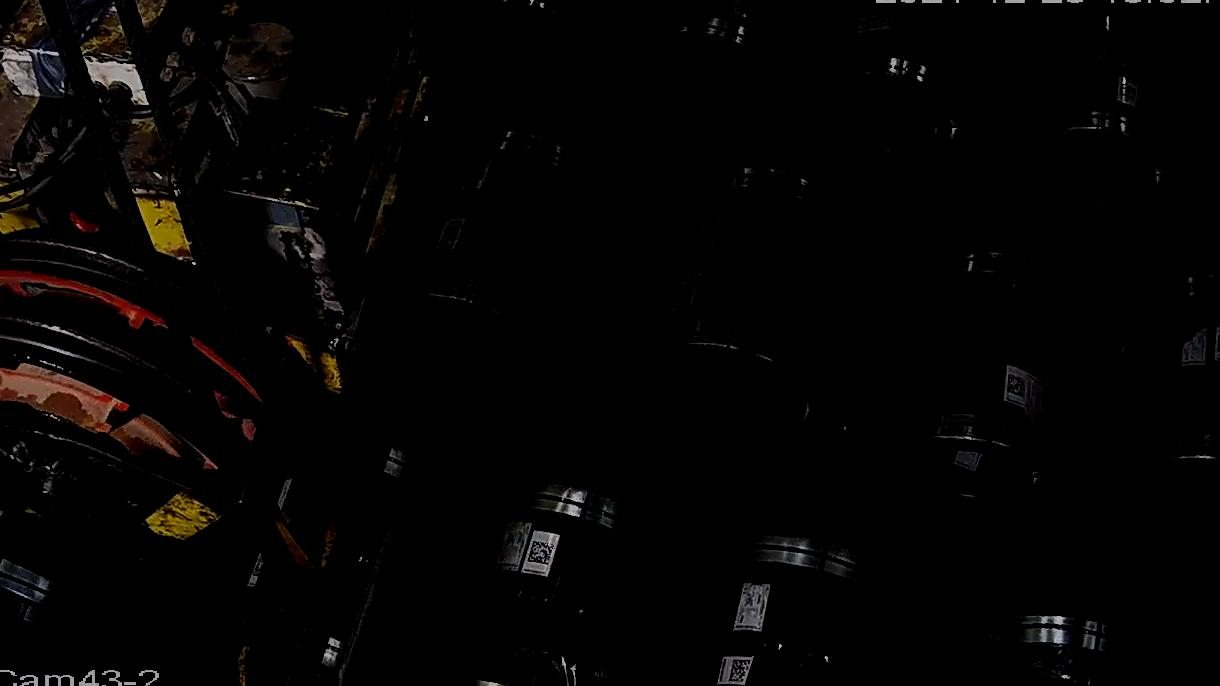data matrix: (527, 539, 558, 567), (672, 279, 702, 305), (728, 659, 755, 684), (439, 222, 465, 246), (1007, 374, 1028, 400), (1119, 82, 1139, 102), (1215, 333, 1220, 357)
